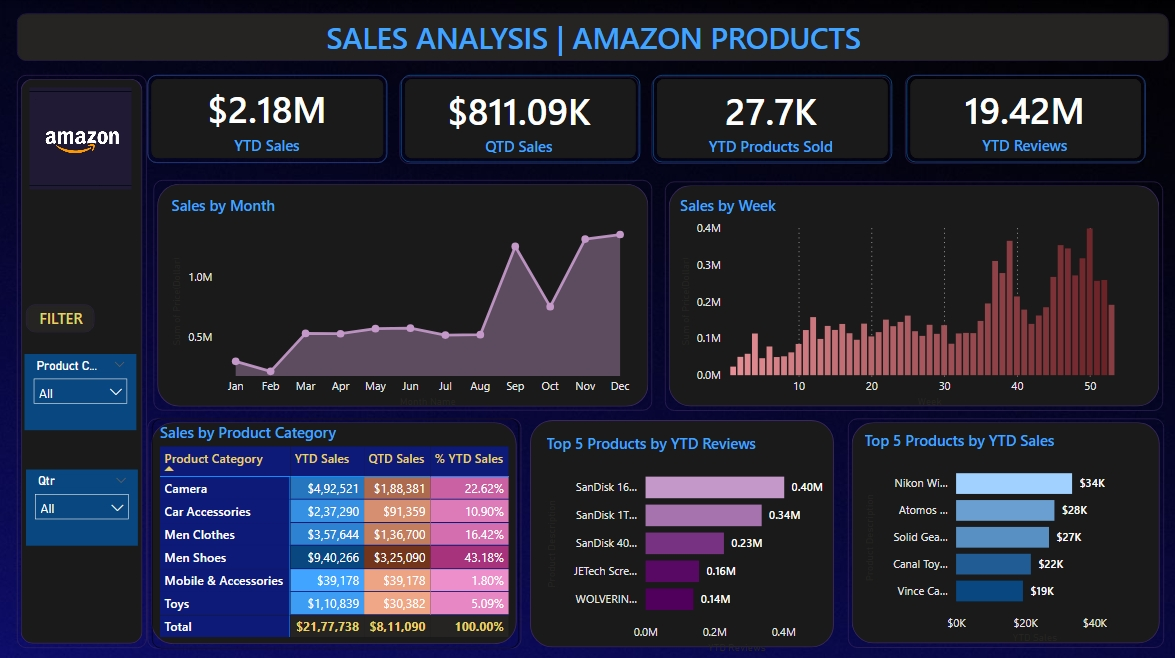

This screenshot's page, from the dashboard's own definition file:
{"tool":"powerbi","page":{"name":"Page 1","canvas":[1280,720],"ordinal":0},"visuals":[{"type":"shape","box":[161.4,81.8,260,95],"z":0},{"type":"card","fields":{"Values":["Amazon_Data.YTD Sales"]},"box":[161.4,81.4,259.5,95.2],"z":1000,"group":"g1"},{"type":"shape","box":[161,454.2,405.1,249.2],"z":2000},{"type":"shape","title":"SALES ANALYSIS | AMAZON PRODUCTS ","box":[19.1,14.9,1248.9,51.1],"z":3000},{"type":"shape","title":"FILTER","box":[19.1,80.9,140.4,621.3],"z":5000},{"type":"shape","box":[435.4,81.8,259.3,94.9],"z":6000},{"type":"shape","box":[709.4,81.8,259.3,94.9],"z":7000},{"type":"shape","box":[983.4,81.8,259.3,94.9],"z":8000},{"type":"card","fields":{"Values":["Amazon_Data.QTD Sales"]},"box":[435.4,82.3,259.3,94.9],"z":9000,"group":"g1"},{"type":"card","fields":{"Values":["Amazon_Data.YTD Products Sold"]},"box":[708.3,82.3,259.3,94.9],"z":10000,"group":"g1"},{"type":"card","fields":{"Values":["Amazon_Data.YTD Reviews"]},"box":[982.4,81.9,260,95.7],"z":11000,"group":"g1"},{"type":"shape","box":[168.2,195.5,540.9,250],"z":12000},{"type":"areaChart","title":"Sales by Month ","fields":{"Category":["Date Table.Month Name"],"Y":["Sum(Amazon_Data.Price(Dollar))"]},"box":[181.8,211.4,511.4,234.1],"z":13000},{"type":"shape","box":[722.9,197.1,540,248.6],"z":14000},{"type":"columnChart","title":"Sales by Week","fields":{"Category":["Date Table.Week"],"Y":["Sum(Amazon_Data.Price(Dollar))"]},"box":[740.4,185.1,540.4,259.6],"z":15000},{"type":"pivotTable","title":"Sales by Product Category","fields":{"Rows":["Amazon_Data.Product Category"],"Values":["Amazon_Data.YTD Sales","Amazon_Data.QTD Sales","Amazon_Data.YTD Sales1"]},"box":[166.1,454.2,398.3,249.2],"z":16000},{"type":"shape","box":[920,454.3,342.9,248.6],"z":17000},{"type":"shape","box":[576.6,455.3,329.8,246.8],"z":18000},{"type":"clusteredBarChart","title":"Top 5 Products by YTD Reviews","fields":{"Category":["Amazon_Data.Product Description"],"Y":["Amazon_Data.YTD Reviews"]},"box":[589.4,470.2,329.8,242.6],"z":19000},{"type":"clusteredBarChart","title":"Top 5 Products by YTD Sales ","fields":{"Category":["Amazon_Data.Product Description"],"Y":["Amazon_Data.YTD Sales"]},"box":[934.3,467.1,294.3,235.7],"z":20000},{"type":"slicer","fields":{"Values":["Amazon_Data.Product Category"]},"box":[27.1,384.3,121.4,82.9],"z":21000},{"type":"slicer","fields":{"Values":["Date Table.Qtr"]},"box":[28.6,508.6,121.4,82.9],"z":21001},{"type":"image","box":[27.7,89.4,121.3,121.3],"z":21002},{"type":"shape","title":"FILTER","box":[28.6,330,74.3,30],"z":21003},{"type":"group","id":"g1","title":"Group 1","box":[161.4,81.4,1081.4,95.7],"z":21004}]}

Visuals, with their boxes in screenshot pixels (x1, y1, x2, y2), scaled from the page's 1280x720 canvas onto the 1175x658 screenshot:
shape: x1=148, y1=75, x2=387, y2=162
card - Amazon_Data.YTD Sales: x1=148, y1=74, x2=386, y2=161
shape: x1=148, y1=415, x2=520, y2=643
"SALES ANALYSIS | AMAZON PRODUCTS " shape: x1=18, y1=14, x2=1164, y2=60
"FILTER" shape: x1=18, y1=74, x2=146, y2=642
shape: x1=400, y1=75, x2=638, y2=161
shape: x1=651, y1=75, x2=889, y2=161
shape: x1=903, y1=75, x2=1141, y2=161
card - Amazon_Data.QTD Sales: x1=400, y1=75, x2=638, y2=162
card - Amazon_Data.YTD Products Sold: x1=650, y1=75, x2=888, y2=162
card - Amazon_Data.YTD Reviews: x1=902, y1=75, x2=1140, y2=162
shape: x1=154, y1=179, x2=651, y2=407
"Sales by Month " areaChart: x1=167, y1=193, x2=636, y2=407
shape: x1=664, y1=180, x2=1159, y2=407
"Sales by Week" columnChart: x1=680, y1=169, x2=1174, y2=406
"Sales by Product Category" pivotTable: x1=152, y1=415, x2=518, y2=643
shape: x1=845, y1=415, x2=1159, y2=642
shape: x1=529, y1=416, x2=832, y2=642
"Top 5 Products by YTD Reviews" clusteredBarChart: x1=541, y1=430, x2=844, y2=651
"Top 5 Products by YTD Sales " clusteredBarChart: x1=858, y1=427, x2=1128, y2=642
slicer - Amazon_Data.Product Category: x1=25, y1=351, x2=136, y2=427
slicer - Date Table.Qtr: x1=26, y1=465, x2=138, y2=541
image: x1=25, y1=82, x2=137, y2=193
"FILTER" shape: x1=26, y1=302, x2=94, y2=329
"Group 1" group: x1=148, y1=74, x2=1141, y2=162
